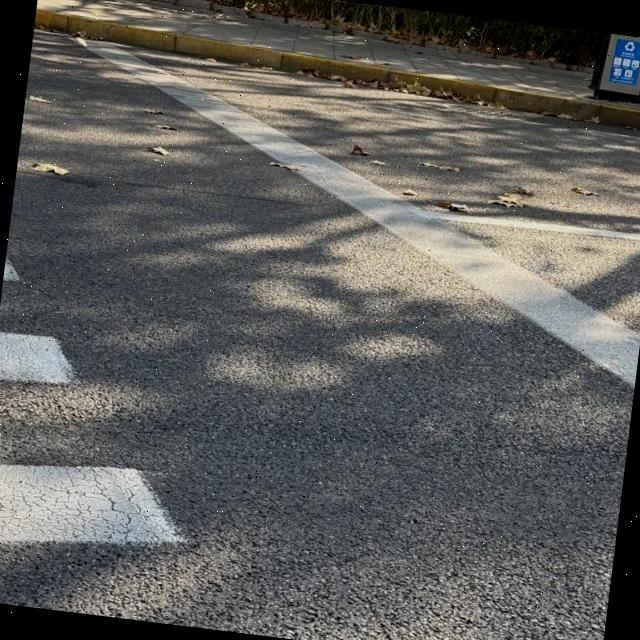curb: (33, 9, 640, 132)
